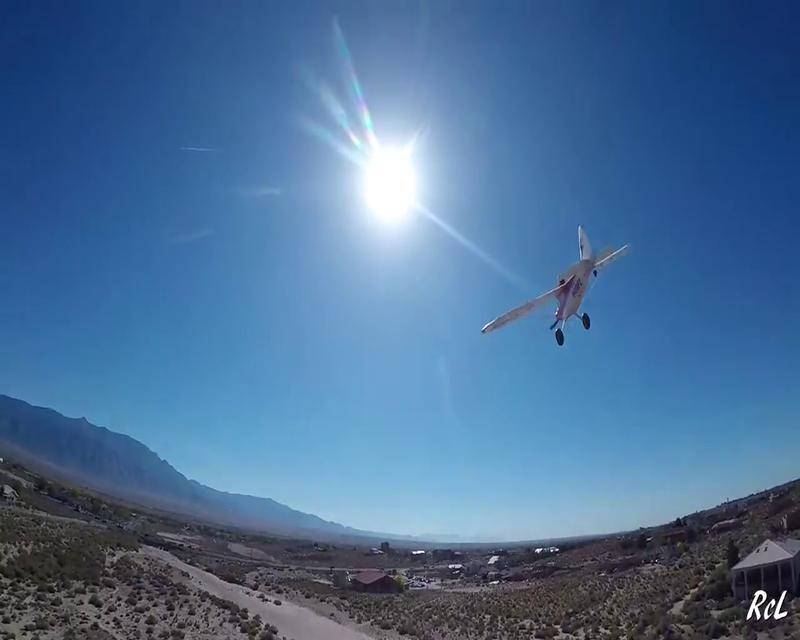UAV: (480, 226, 632, 346)
